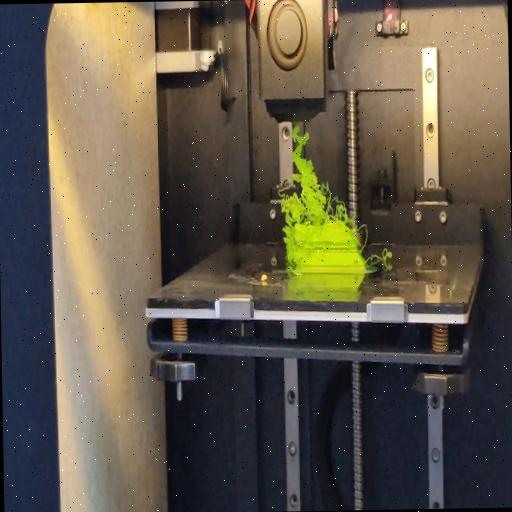spaghetti: (280, 123, 356, 231), (368, 244, 394, 266), (283, 234, 295, 278), (357, 216, 369, 253)
